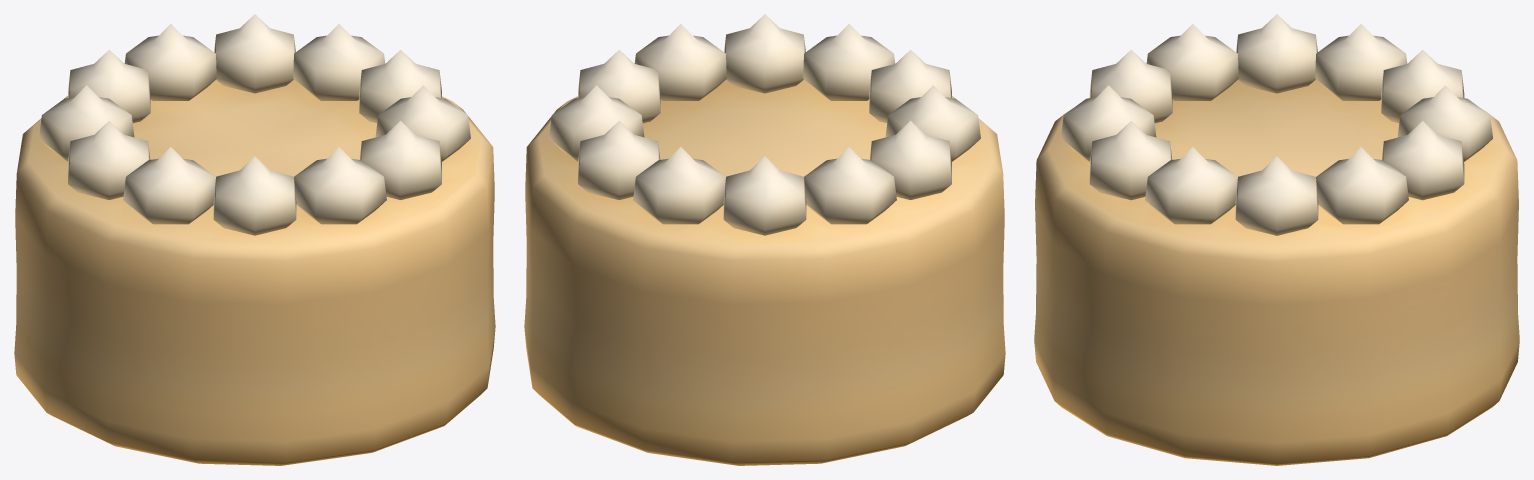
The model's file is cake.dae.
3 views of the same model, side by side, from view 1: azimuth 30°, elevation 25°; view 2: azimuth 150°, elevation 25°; view 3: azimuth 270°, elevation 25° (orthographic).
Parts seen in each view (by area): view 1: Cylinder; view 2: Cylinder; view 3: Cylinder.
Part boxes in pixels (bbox=[...]): Cylinder: bbox=[14, 14, 495, 465]; Cylinder: bbox=[524, 14, 1005, 465]; Cylinder: bbox=[1034, 14, 1519, 465].
Bounding box in the file's own units: 2.02 × 2.02 × 1.3.
Materials: 1 (1 with a texture image).
